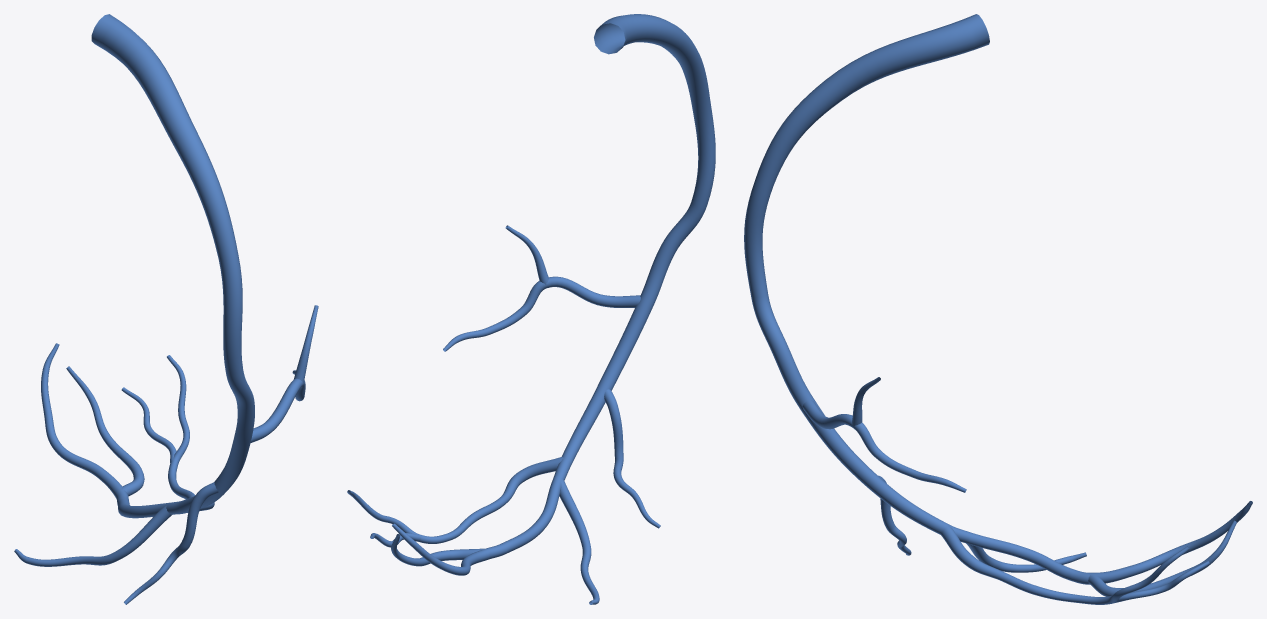
3 renders of one model, left to right at view 1: azimuth 30°, elevation 25°; view 2: azimuth 150°, elevation 25°; view 3: azimuth 270°, elevation 25°, orthographic. The views are drawn at different scales.
Parts seen in each view (by area): view 1: 心大静脉; view 2: 心大静脉; view 3: 心大静脉.
Part boxes in pixels (x1,y1,x2,y2): 心大静脉: (14, 14, 318, 604); 心大静脉: (347, 14, 715, 604); 心大静脉: (744, 14, 1252, 604).
Bounding box in the file's own units: 0.0553 × 0.1378 × 0.1129.
